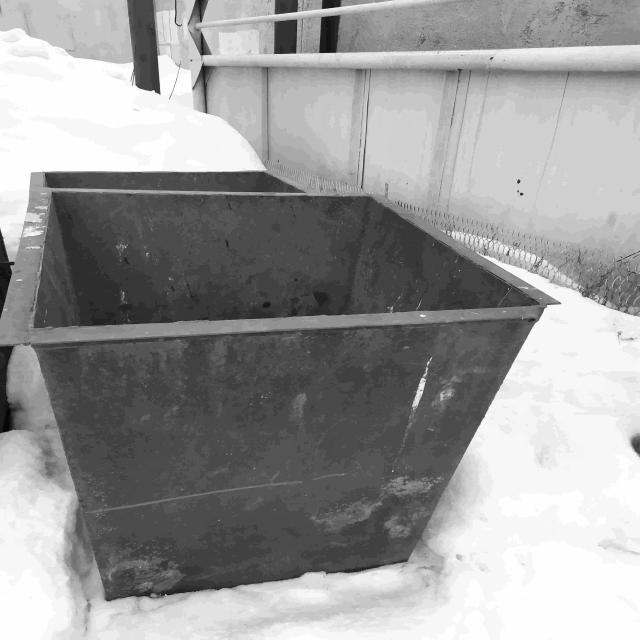bin: (6, 165, 564, 619)
